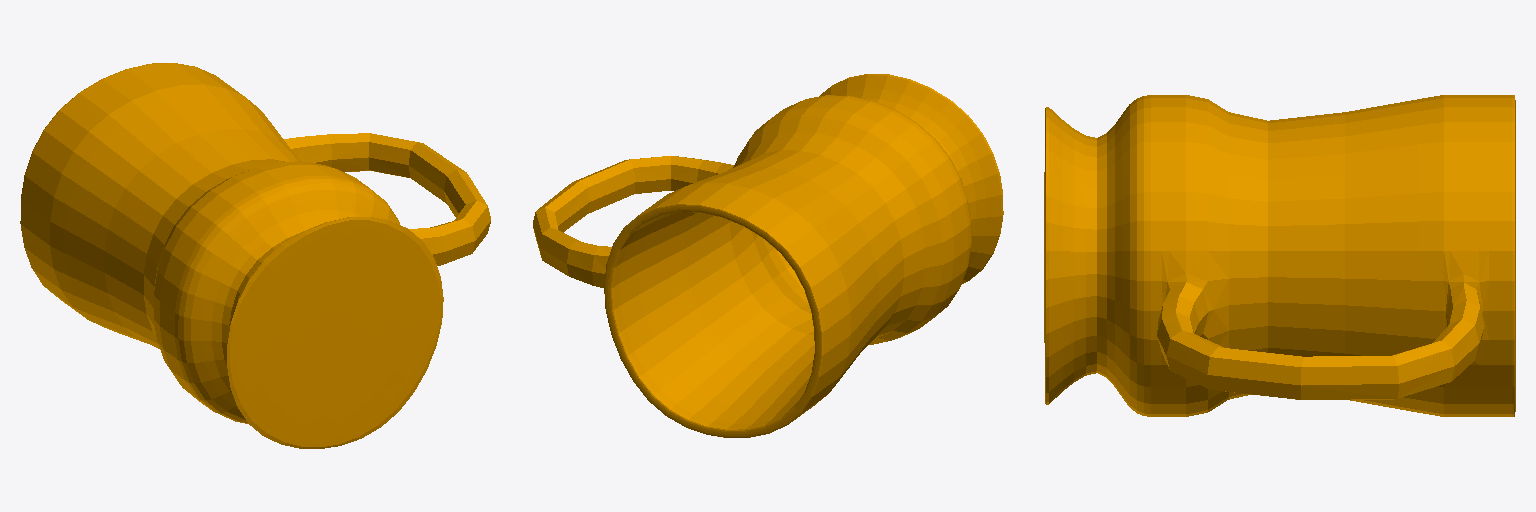
The robot description file, URDF, robot "131":
<?xml version="1.0" ?>
<robot name="131">
  <link name="body">
    <visual>
      <geometry>
        <mesh filename="../shapes/131.obj"/>
      </geometry>
    </visual>
    <collision>
      <geometry>
        <mesh filename="../shapes/131.obj"/>
      </geometry>
    </collision>
  </link>
</robot>

--- What the picture shows (computed from the rendered views, not written in the file) ---
Views: 3 orthographic renders of the robot side by side, from view 1: azimuth 30°, elevation 25°; view 2: azimuth 150°, elevation 25°; view 3: azimuth 270°, elevation 25°.
Model 131 with 1 links and 0 joints (none), rooted at body, posed every joint at zero.
Visible links, largest first — view 1: body; view 2: body; view 3: body.
Boxes of the visible links, x1,y1,x2,y2 form: body: (20, 63, 490, 448); body: (533, 74, 1003, 437); body: (1044, 95, 1515, 416).
Bounding box of the posed robot: 3.75 × 3.62 × 2.42 m (x, y, z).
Meshes: 1 distinct files referenced, 1 mesh visuals loaded (1 OBJ).